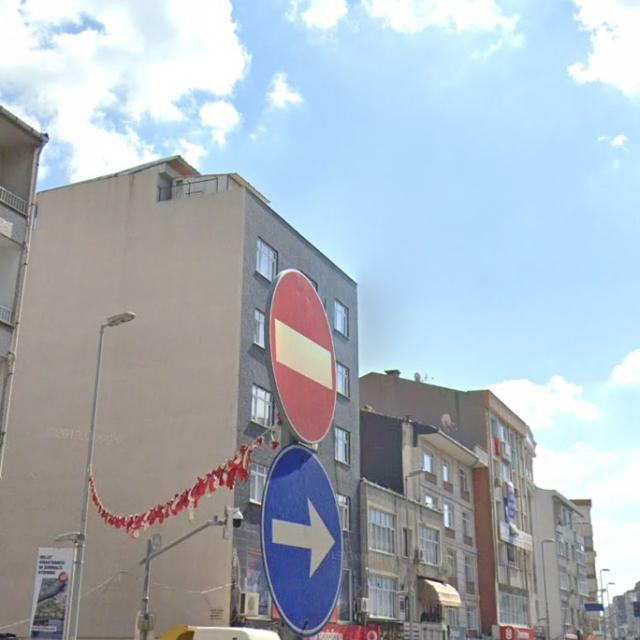girisyok: (268, 267, 337, 441)
sag: (261, 443, 343, 638)
